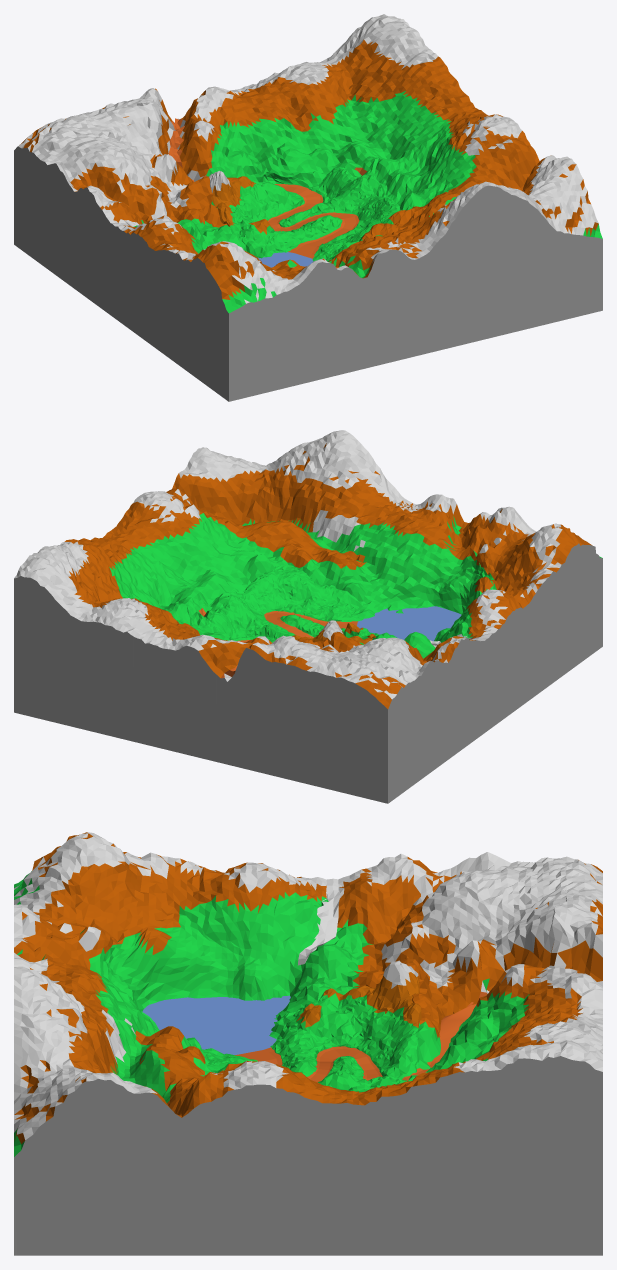
The model's file is fixedMiniLevels.fbx.
3 renders of one model, top to bottom at view 1: azimuth 30°, elevation 25°; view 2: azimuth 150°, elevation 25°; view 3: azimuth 270°, elevation 25°, orthographic. The views are drawn at different scales.
Parts seen in each view (by area): view 1: Plane.001, terrain, Plane; view 2: Plane.001, terrain, water, Plane; view 3: Plane.001, terrain, water, Plane.
Boxes of the visible parts, left/top/right/bottom form: Plane.001: left=14, top=14, right=602, bottom=401; terrain: left=209, top=166, right=401, bottom=261; Plane: left=193, top=181, right=359, bottom=258; Plane.001: left=14, top=430, right=602, bottom=803; terrain: left=201, top=563, right=378, bottom=644; water: left=357, top=606, right=461, bottom=641; Plane: left=237, top=611, right=357, bottom=642; Plane.001: left=14, top=832, right=602, bottom=1255; terrain: left=202, top=960, right=421, bottom=1084; water: left=142, top=995, right=290, bottom=1054; Plane: left=234, top=1002, right=476, bottom=1082.
Size of the model in its own units: 12979 by 5072 by 12912.
